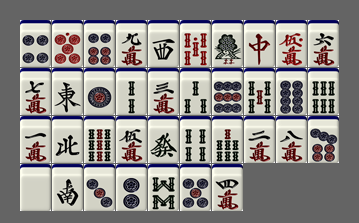0m: (276, 20, 307, 67)
0p: (52, 20, 83, 67)
0s: (180, 20, 211, 67)
1m: (20, 116, 51, 163)
1p: (84, 68, 115, 115)
1s: (212, 20, 243, 67)
1z: (52, 68, 83, 115)
2m: (244, 116, 275, 163)
2p: (116, 164, 147, 211)
2s: (116, 68, 147, 115)
2z: (52, 164, 83, 211)
3m: (148, 68, 179, 115)
3p: (84, 164, 115, 211)
3s: (180, 68, 211, 115)
3z: (148, 20, 179, 67)
4m: (212, 164, 243, 211)
4p: (20, 20, 51, 67)
4s: (180, 116, 211, 163)
4z: (52, 116, 83, 163)
5m: (116, 116, 147, 163)
5p: (180, 164, 211, 211)
5s: (244, 68, 275, 115)
5z: (20, 164, 51, 211)
6m: (308, 20, 339, 67)
6p: (84, 20, 115, 67)
6s: (308, 68, 339, 115)
6z: (148, 116, 179, 163)
7m: (20, 68, 51, 115)
7p: (308, 116, 339, 163)
7s: (212, 116, 243, 163)
7z: (244, 20, 275, 67)
8m: (276, 116, 307, 163)
8p: (276, 68, 307, 115)
8s: (148, 164, 179, 211)
9m: (116, 20, 147, 67)
9p: (212, 68, 243, 115)
9s: (84, 116, 115, 163)
